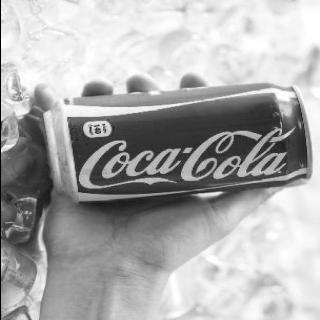alumunium_can: (39, 82, 314, 206)
